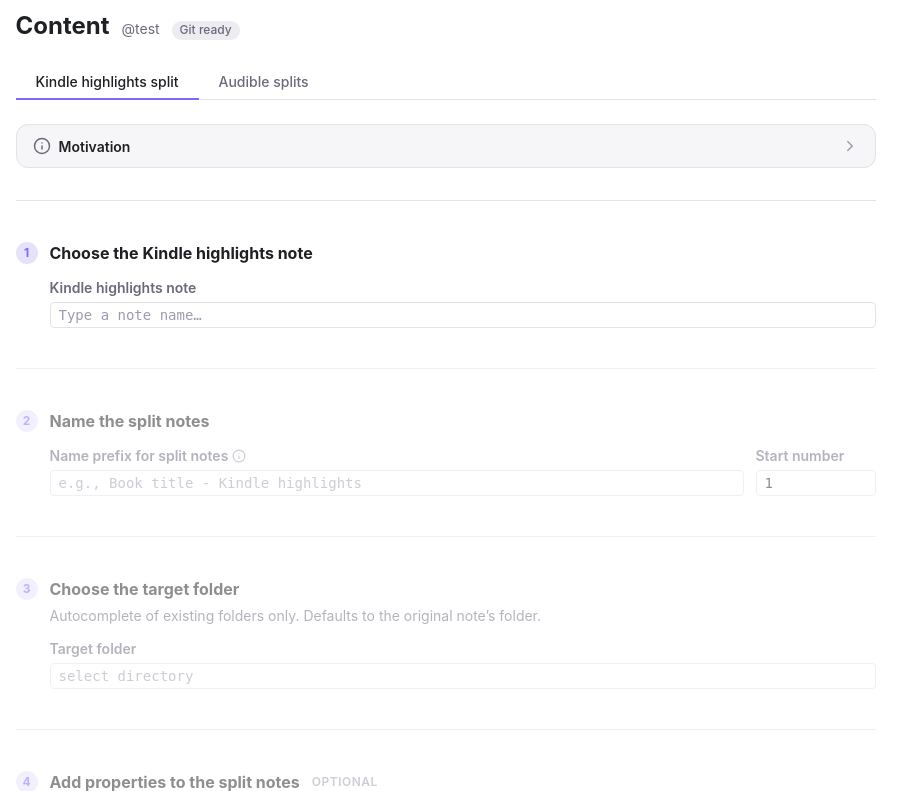
Scenario: ContentPage: choosing a non-Kindle note shows the blocking banner
The width and height of the screenshot is (905, 791).
Step 1. Type "Plain note" into the field with placeholder "Type a note name…" → (462, 315), box [50,302,876,328]
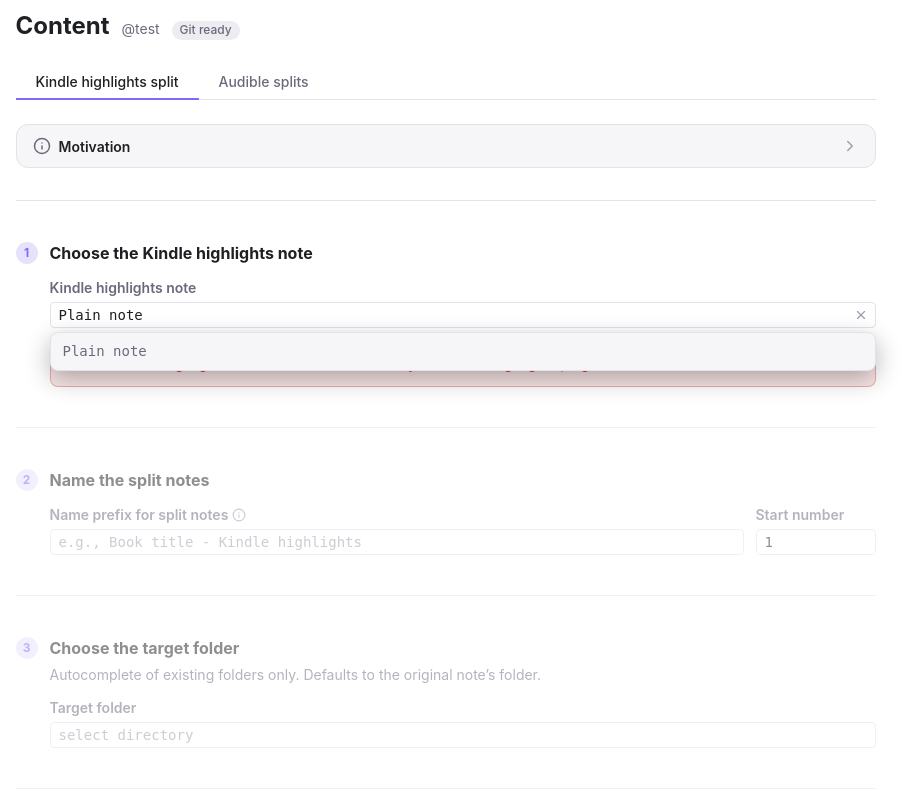
Expected: the text "Not a Kindle highlights note" is shown, [62,355,605,372]
